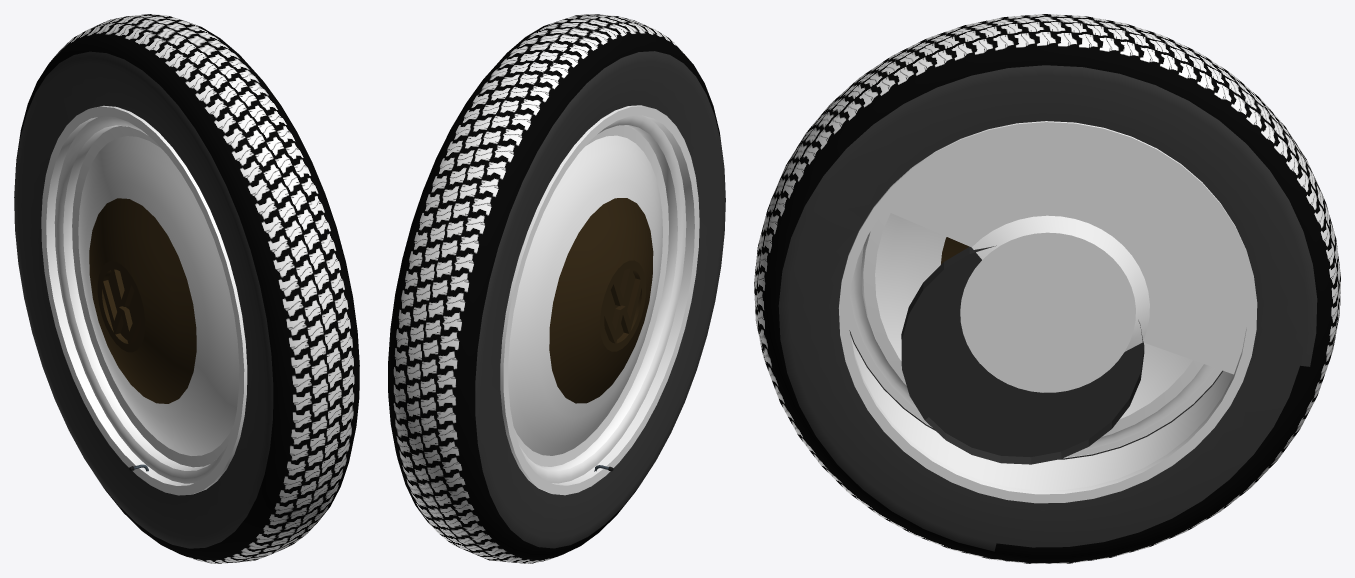
The model's file is cochellantaatrasizq.obj.
3 renders of one model, left to right at view 1: azimuth 30°, elevation 25°; view 2: azimuth 150°, elevation 25°; view 3: azimuth 270°, elevation 25°, orthographic. The views are drawn at different scales.
Visible parts, largest first — view 1: VWBeetle.002_Picture, VWBeetle.002_white, VWBeetle.002_Grey, VWBeetle.002_crome; view 2: VWBeetle.002_Picture, VWBeetle.002_white, VWBeetle.002_Grey, VWBeetle.002_crome; view 3: VWBeetle.002_white, VWBeetle.002_Grey, VWBeetle.002_Picture, VWBeetle.002_Black.
Part boxes in pixels (x1,y1,x2,y2): VWBeetle.002_Picture: (16, 14, 359, 563); VWBeetle.002_white: (41, 105, 247, 495); VWBeetle.002_Grey: (14, 51, 273, 548); VWBeetle.002_crome: (89, 198, 196, 403); VWBeetle.002_Picture: (388, 14, 724, 563); VWBeetle.002_white: (500, 105, 699, 495); VWBeetle.002_Grey: (475, 51, 725, 548); VWBeetle.002_crome: (549, 198, 653, 403); VWBeetle.002_white: (838, 121, 1257, 503); VWBeetle.002_Grey: (778, 65, 1317, 551); VWBeetle.002_Picture: (754, 14, 1340, 563); VWBeetle.002_Black: (901, 245, 1144, 464).
Size of the model in its own units: 0.9047 by 3.83 by 3.83.
